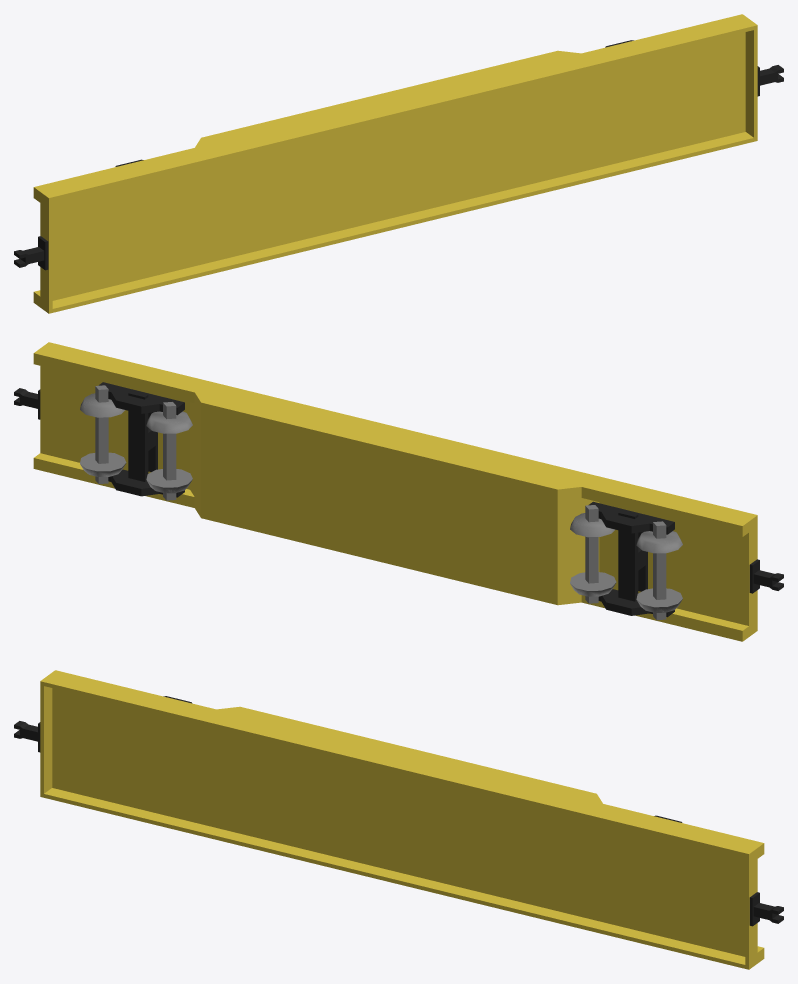
File: stack_car_67ft_unloaded.dae
3 views of the same model, one above another, from view 1: azimuth 30°, elevation 25°; view 2: azimuth 150°, elevation 25°; view 3: azimuth 330°, elevation 25° (orthographic).
Parts seen in each view (by area): view 1: coords_ME_ID158_MA_Stack, coords_ME_ID150_MA_Stack; view 2: coords_ME_ID150_MA_Stack, coords_ME_ID103_MA_Frame, coords_ME_ID44_MA_Frame, coords_ME_ID109_MA_Frame, coords_ME_ID52_MA_Frame, coords_ME_ID25_MA_Wheels, coords_ME_ID84_MA_Wheels, coords_ME_ID19_MA_Wheels, coords_ME_ID78_MA_Wheels, coords_ME_ID66_MA_Wheels, coords_ME_ID5_MA_Wheels, coords_ME_ID90_MA_Wheels (+7 smaller); view 3: coords_ME_ID158_MA_Stack, coords_ME_ID150_MA_Stack.
Boxes of the visible parts, left/top/right/bottom form: coords_ME_ID158_MA_Stack: left=52, top=30, right=753, bottom=308; coords_ME_ID150_MA_Stack: left=33, top=14, right=757, bottom=313; coords_ME_ID150_MA_Stack: left=33, top=342, right=757, bottom=641; coords_ME_ID103_MA_Frame: left=618, top=510, right=647, bottom=601; coords_ME_ID44_MA_Frame: left=128, top=391, right=157, bottom=481; coords_ME_ID109_MA_Frame: left=588, top=501, right=674, bottom=534; coords_ME_ID52_MA_Frame: left=98, top=382, right=184, bottom=415; coords_ME_ID25_MA_Wheels: left=163, top=402, right=176, bottom=500; coords_ME_ID84_MA_Wheels: left=653, top=521, right=666, bottom=620; coords_ME_ID19_MA_Wheels: left=95, top=385, right=108, bottom=483; coords_ME_ID78_MA_Wheels: left=585, top=505, right=598, bottom=603; coords_ME_ID66_MA_Wheels: left=570, top=572, right=616, bottom=596; coords_ME_ID5_MA_Wheels: left=80, top=452, right=126, bottom=476; coords_ME_ID90_MA_Wheels: left=636, top=588, right=682, bottom=612; coords_ME_ID158_MA_Stack: left=44, top=686, right=745, bottom=964; coords_ME_ID150_MA_Stack: left=40, top=670, right=764, bottom=969.
Size of the model in its own units: 204 by 29.5 by 15.49.
